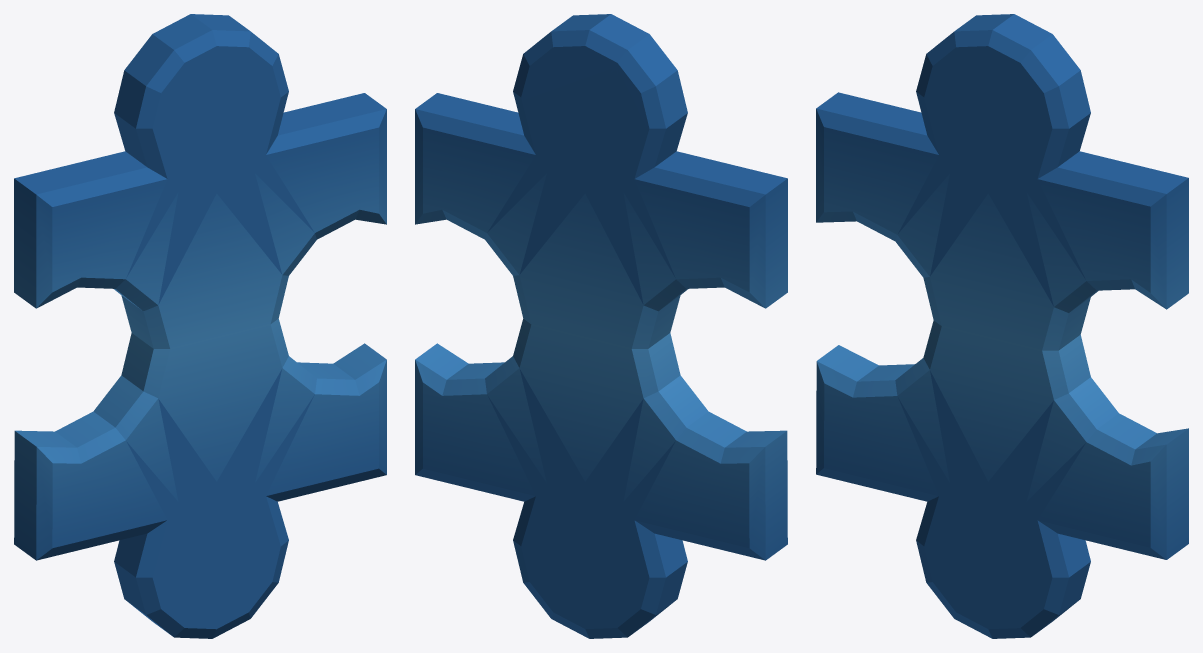
File: PuzzlePiece.FBX
3 views of the same model, side by side, from view 1: azimuth 30°, elevation 25°; view 2: azimuth 150°, elevation 25°; view 3: azimuth 330°, elevation 25° (orthographic).
Visible parts, largest first — view 1: Puzzle Piece; view 2: Puzzle Piece; view 3: Puzzle Piece.
Boxes of the visible parts, box(x1,y1,x2,y2) form: Puzzle Piece: box(14, 14, 386, 638); Puzzle Piece: box(415, 14, 787, 638); Puzzle Piece: box(816, 14, 1188, 638).
Bounding box in the file's own units: 75.83 × 126 × 11.42.
